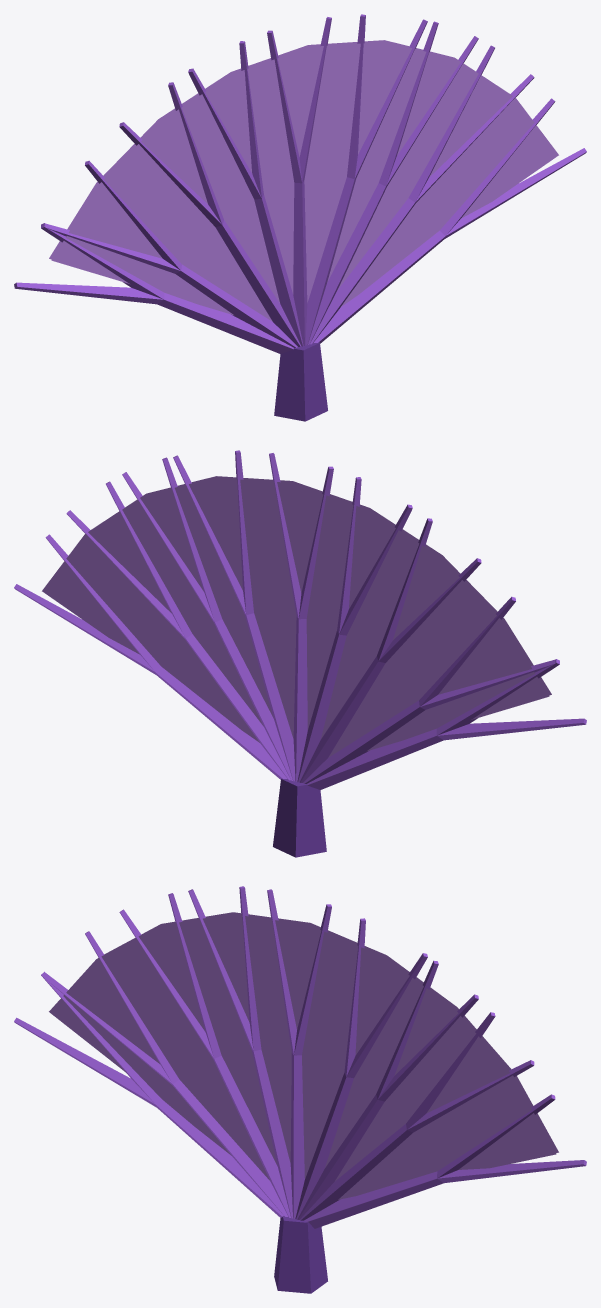
File: coral_fan.glb
3 renders of one model, top to bottom at view 1: azimuth 30°, elevation 25°; view 2: azimuth 150°, elevation 25°; view 3: azimuth 330°, elevation 25°, orthographic.
Parts seen in each view (by area): view 1: coral_fan; view 2: coral_fan; view 3: coral_fan.
Boxes of the visible parts, x1,y1,x2,y2 form: coral_fan: [14, 14, 586, 421]; coral_fan: [14, 450, 586, 857]; coral_fan: [14, 886, 586, 1293].
Size of the model in its own units: 1.59 by 1.02 by 0.1331.
